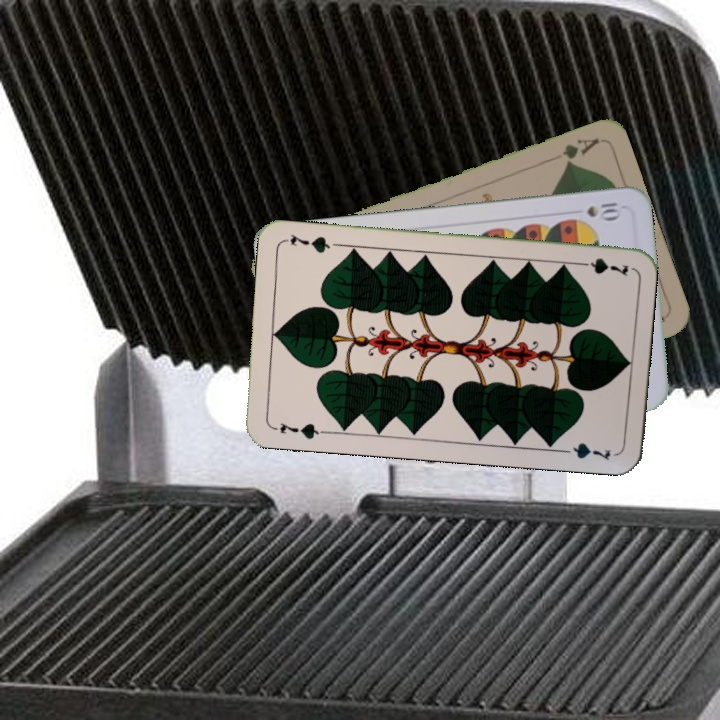G7: (572, 253, 631, 279), (268, 418, 327, 442)
GA: (558, 134, 602, 168)
S10: (583, 198, 624, 221)
